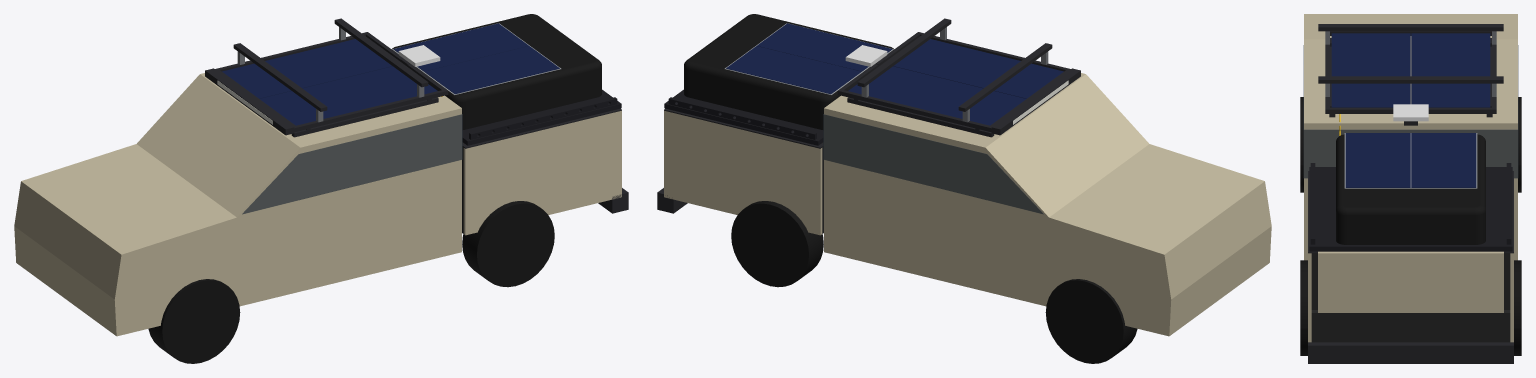
File: fitout_travel.glb
3 renders of one model, left to right at view 1: azimuth 30°, elevation 25°; view 2: azimuth 150°, elevation 25°; view 3: azimuth 270°, elevation 25°, orthographic. The views are drawn at different scales.
Parts seen in each view (by area): view 1: vehicle__cab_body, vehicle__tub_skin_passenger, vehicle__cab_glass, tent__rooftop_tent, vehicle__wheel_430_-1, vehicle__wheel_-2840_-1, solar__roof_solar_2, solar__roof_solar_1, solar__tent_solar_1, solar__tent_solar_2, lid__load_lid, lid__lid_rail_-1 (+9 smaller); view 2: vehicle__cab_body, vehicle__tub_skin_driver, vehicle__cab_glass, tent__rooftop_tent, vehicle__wheel_430_1, vehicle__wheel_-2840_1, solar__roof_solar_1, solar__roof_solar_2, solar__tent_solar_2, solar__tent_solar_1, lid__load_lid, lid__lid_rail_1 (+8 smaller); view 3: vehicle__cab_body, vehicle__tailgate, tent__rooftop_tent, vehicle__tub_underside, solar__roof_solar_1, solar__roof_solar_2, lid__load_lid, vehicle__rear_bumper, solar__tent_solar_1, solar__tent_solar_2, vehicle__cab_glass, cargo__cargo_bar_-1500 (+19 smaller).
Boxes of the visible parts, x1,y1,x2,y2 form: vehicle__cab_body: (14, 73, 461, 336); vehicle__tub_skin_passenger: (463, 110, 621, 235); vehicle__cab_glass: (242, 114, 462, 214); tent__rooftop_tent: (392, 14, 601, 129); vehicle__wheel_430_-1: (462, 201, 554, 287); vehicle__wheel_-2840_-1: (148, 279, 240, 363); solar__roof_solar_2: (222, 39, 392, 98); solar__roof_solar_1: (260, 66, 437, 125); solar__tent_solar_1: (424, 46, 559, 94); solar__tent_solar_2: (393, 23, 528, 71); lid__load_lid: (462, 89, 621, 145); lid__lid_rail_-1: (469, 97, 617, 139); vehicle__cab_body: (824, 73, 1271, 336); vehicle__tub_skin_driver: (664, 110, 822, 235); vehicle__cab_glass: (823, 114, 1043, 214); tent__rooftop_tent: (684, 14, 893, 129); vehicle__wheel_430_1: (731, 201, 823, 287); vehicle__wheel_-2840_1: (1045, 279, 1137, 363); solar__roof_solar_1: (893, 39, 1063, 98); solar__roof_solar_2: (848, 66, 1025, 125); solar__tent_solar_2: (726, 46, 861, 94); solar__tent_solar_1: (757, 23, 892, 71); lid__load_lid: (664, 89, 823, 145); lid__lid_rail_1: (668, 97, 816, 139); vehicle__cab_body: (1304, 14, 1517, 260); vehicle__tailgate: (1318, 251, 1503, 312); tent__rooftop_tent: (1336, 134, 1485, 244); vehicle__tub_underside: (1311, 310, 1510, 342); solar__roof_solar_1: (1331, 33, 1410, 107); solar__roof_solar_2: (1411, 33, 1490, 107); lid__load_lid: (1309, 167, 1512, 251); vehicle__rear_bumper: (1308, 342, 1513, 363); solar__tent_solar_1: (1345, 133, 1410, 187); solar__tent_solar_2: (1411, 133, 1476, 187); vehicle__cab_glass: (1303, 45, 1518, 178); cargo__cargo_bar_-1500: (1318, 24, 1503, 31).
Bounding box in the file's own units: 5.36 × 2.16 × 1.88.
